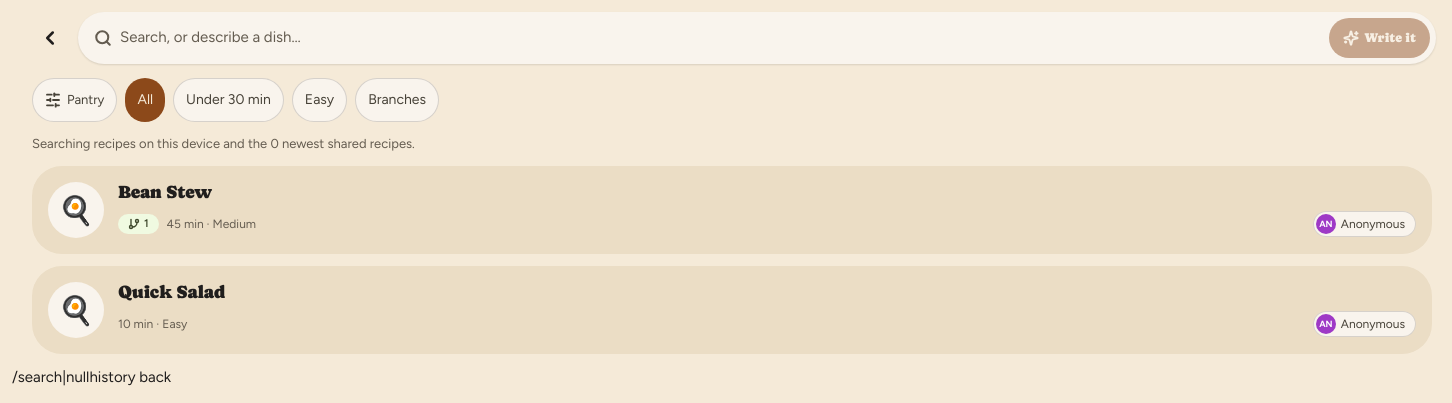
SearchPage › the Under 30 min chip filters and lives in f
Click the button "Under 30 min" at (228, 100), box [173,78,284,122]
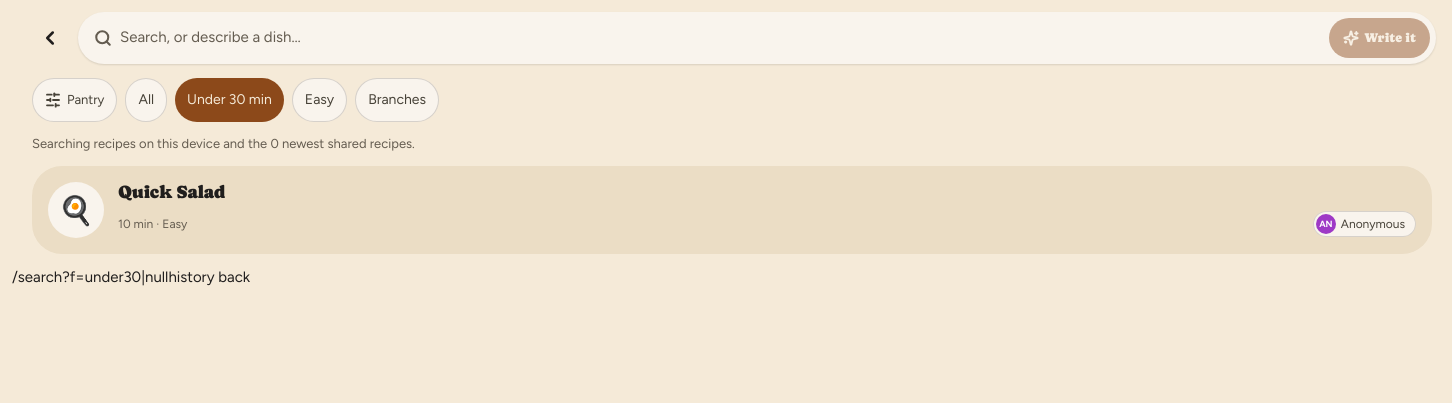
Now the button "Under 30 min" is pressed, box [175,78,284,122]
Click the button "All" at (146, 100), box [125,78,167,122]
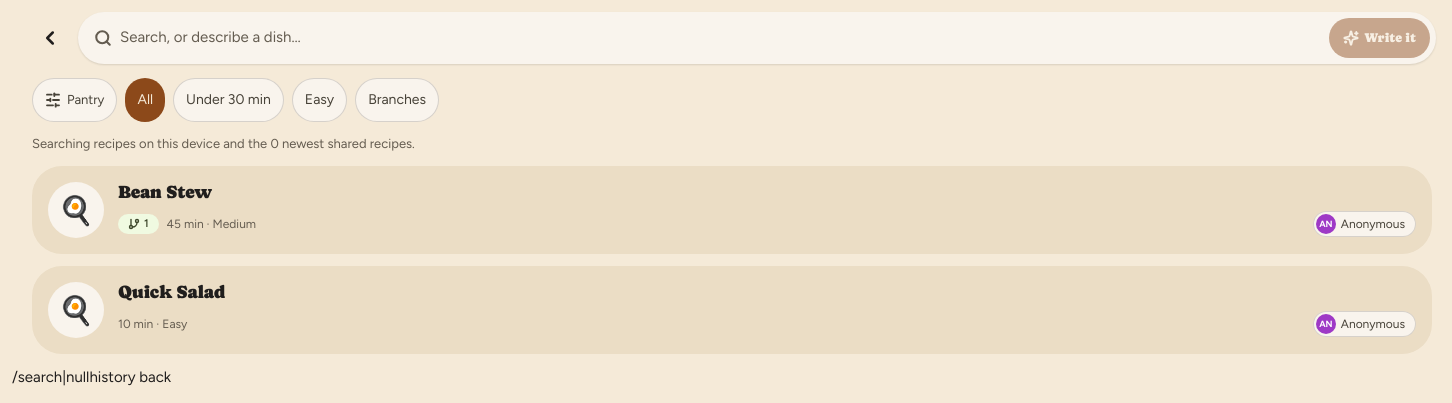
Now the text with test id "probe" shows "/search|", box [12,368,89,386]
